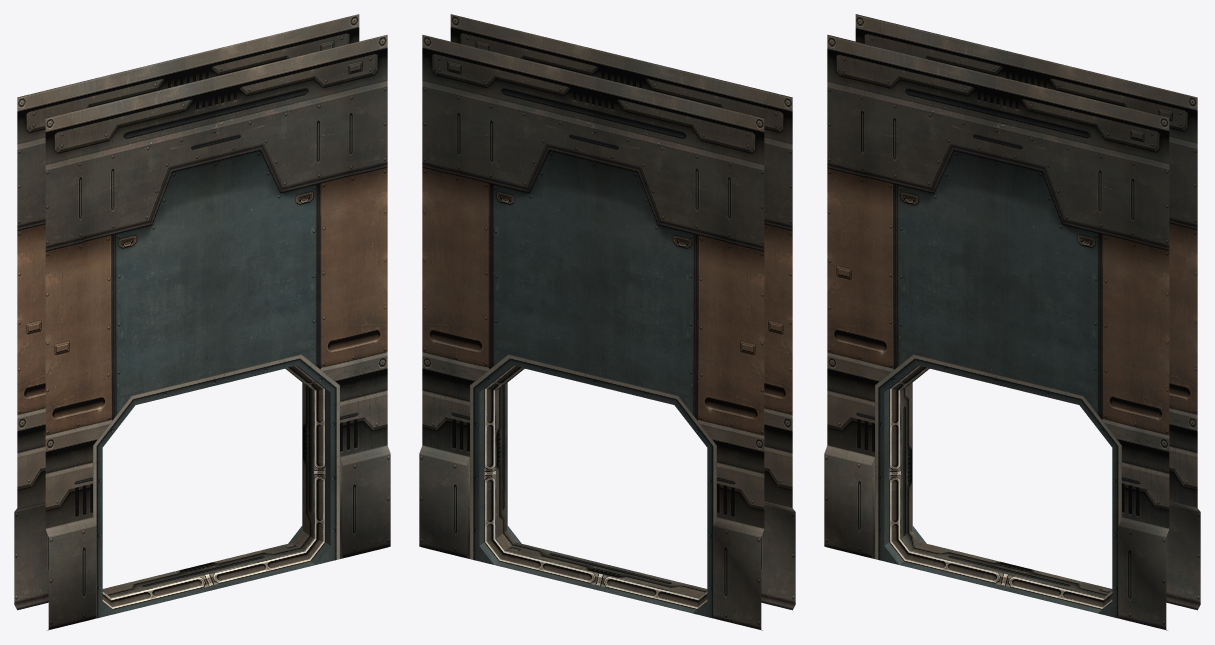
File: mprw_doorway_tall.FBX
The picture shows the model from 3 angles, left to right: view 1: azimuth 30°, elevation 25°; view 2: azimuth 150°, elevation 25°; view 3: azimuth 330°, elevation 25°; orthographic projection.
Visible parts, largest first — view 1: mprw_doorway_tall; view 2: mprw_doorway_tall; view 3: mprw_doorway_tall.
Part boxes in pixels (x1,y1,x2,y2): mprw_doorway_tall: (14, 14, 390, 630); mprw_doorway_tall: (419, 14, 795, 630); mprw_doorway_tall: (824, 14, 1200, 630).
Size of the model in its own units: 700 by 1003 by 123.
Materials: 1 (1 with a texture image).
